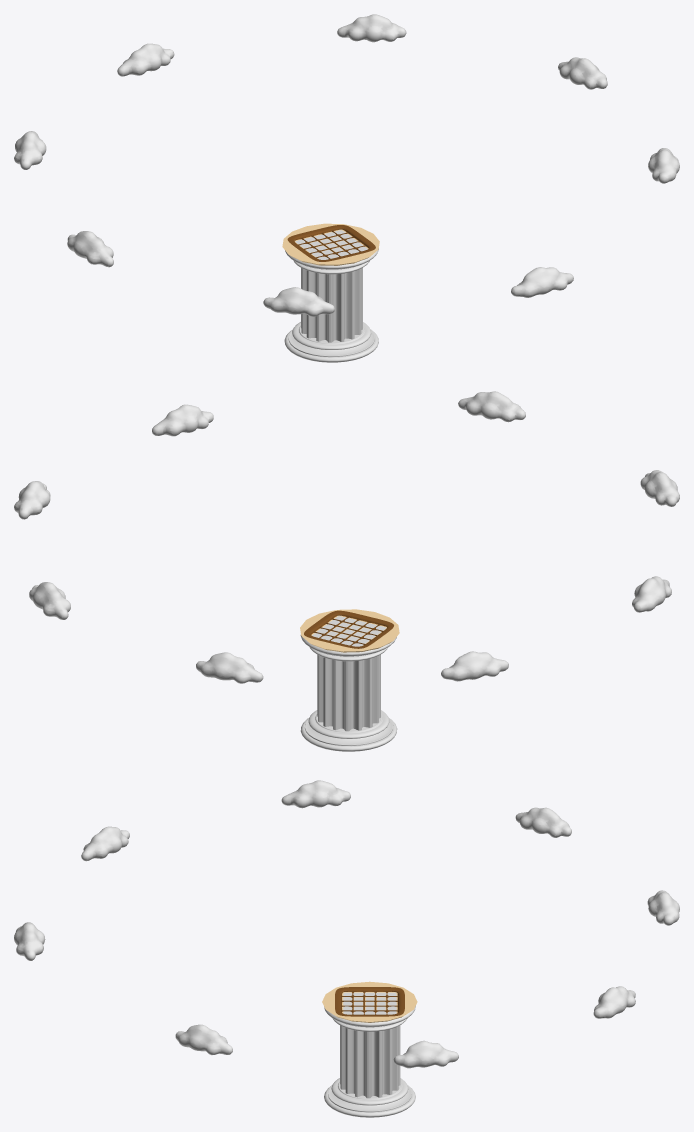
The model's file is stand3.fbx.
3 views of the same model, one above another, from view 1: azimuth 30°, elevation 25°; view 2: azimuth 150°, elevation 25°; view 3: azimuth 270°, elevation 25° (orthographic). The views are drawn at different scales.
Visible parts, largest first — view 1: Plane.001, Pedestal, Plane; view 2: Plane.001, Pedestal, Plane; view 3: Plane.001, Pedestal, Plane.
Boxes of the visible parts, bbox=[...] form: Plane.001: bbox=[14, 14, 679, 316]; Pedestal: bbox=[284, 230, 378, 362]; Plane: bbox=[282, 223, 379, 265]; Plane.001: bbox=[14, 391, 679, 683]; Pedestal: bbox=[300, 616, 397, 751]; Plane: bbox=[300, 609, 399, 652]; Plane.001: bbox=[14, 780, 679, 1068]; Pedestal: bbox=[324, 992, 415, 1117]; Plane: bbox=[322, 981, 417, 1022].
Size of the model in its own units: 5216 by 1698 by 5371.
